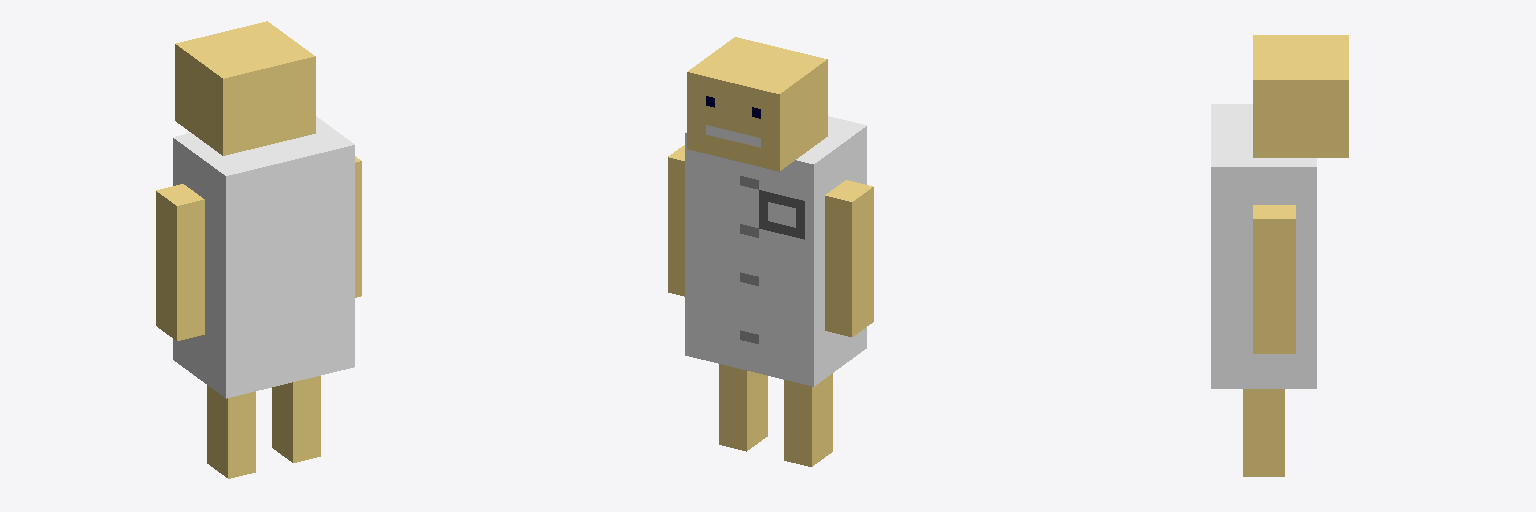
3 renders of one model, left to right at view 1: azimuth 30°, elevation 25°; view 2: azimuth 150°, elevation 25°; view 3: azimuth 270°, elevation 25°, orthographic.
Parts seen in each view (by area): view 1: scientist01; view 2: scientist01; view 3: scientist01.
Part boxes in pixels (x1,y1,x2,y2): scientist01: (156, 21, 361, 478); scientist01: (668, 37, 873, 466); scientist01: (1211, 35, 1348, 476).
Size of the model in its own units: 2 by 4.1 by 1.3.
Materials: 1 (1 with a texture image).